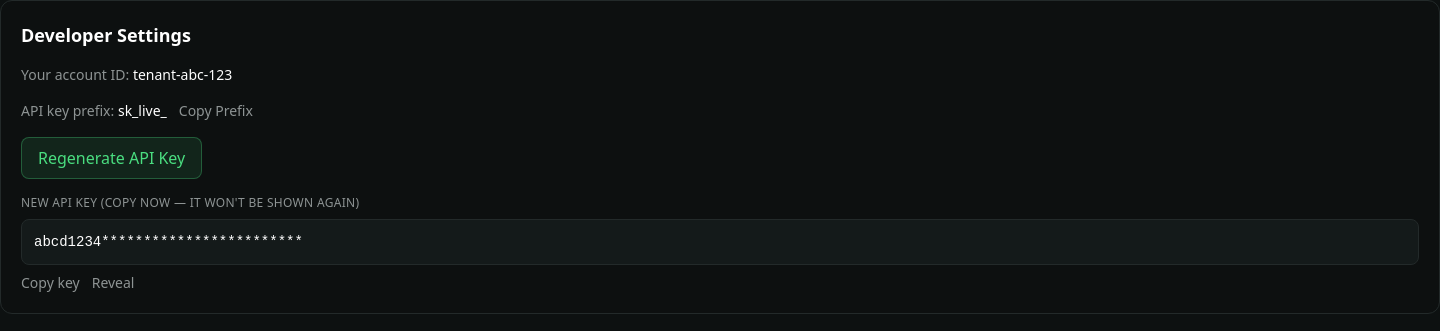
DeveloperSettingsCard › reveals full key when Reveal button is clicked
Click the button "Reveal": click(113, 283) [92,273,134,293]
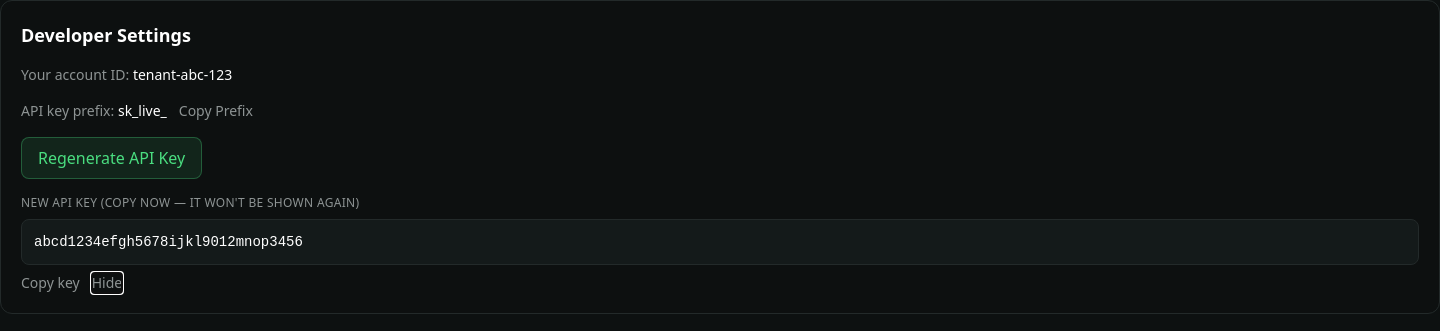
Now the text "abcd1234efgh5678ijkl9012mnop3456" is shown, box [21,219,1419,265]
